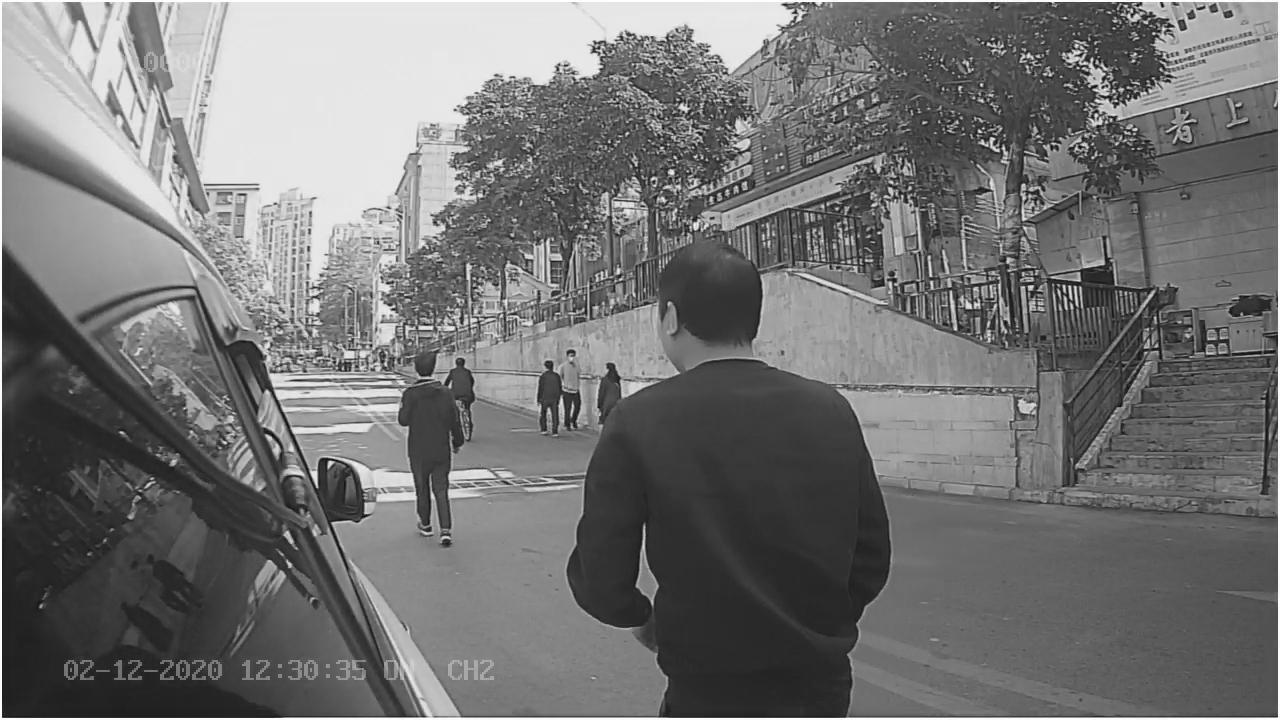person: (579, 228, 882, 502)
